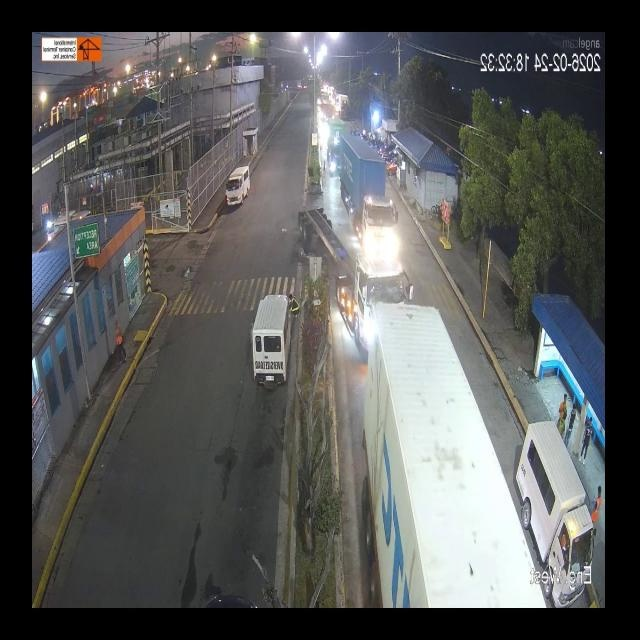car: (518, 442, 592, 588), (248, 292, 288, 396), (222, 163, 250, 215)
truck: (96, 310, 354, 600), (234, 211, 360, 363), (240, 137, 363, 258)
